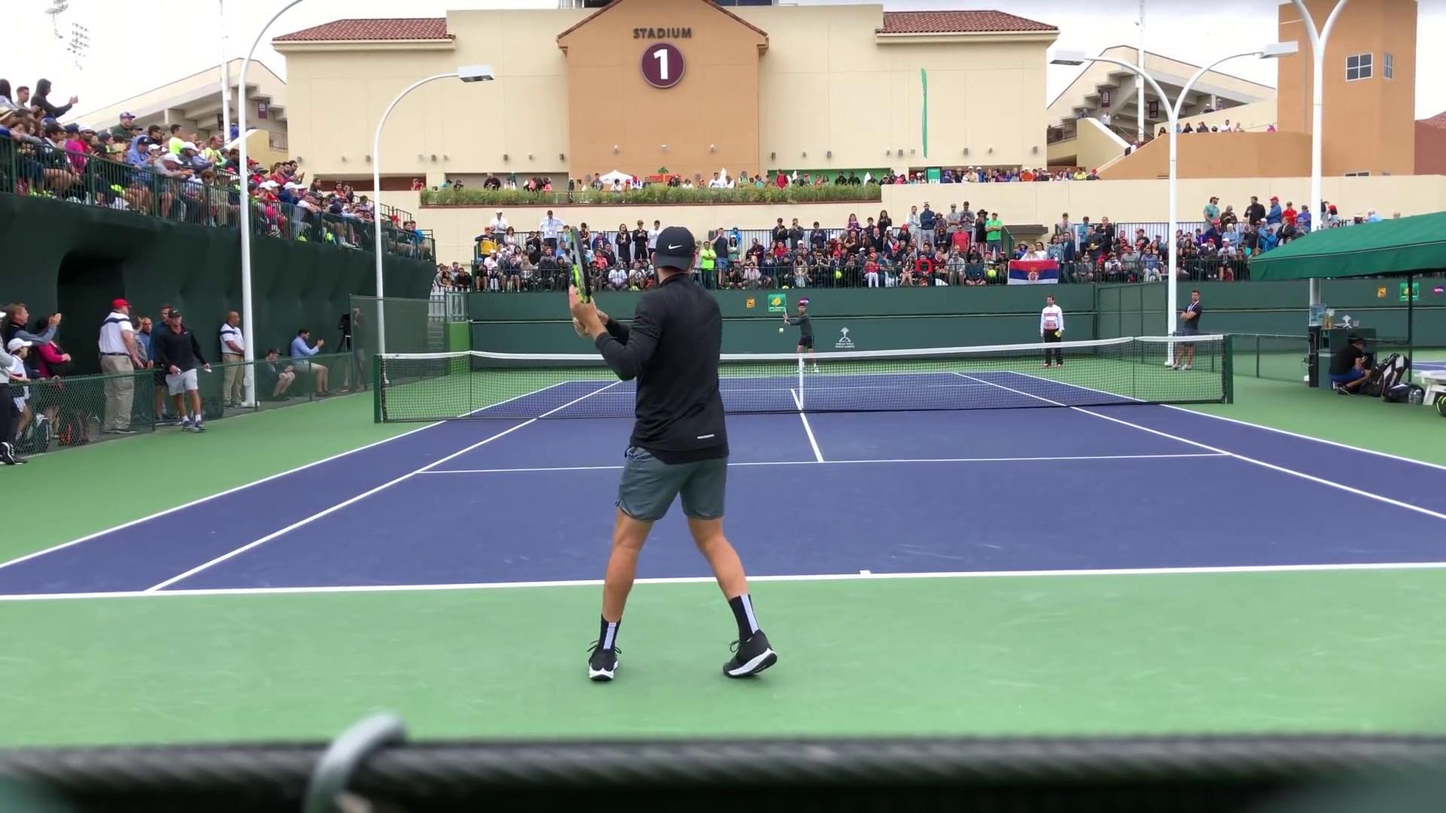ball: (778, 327, 785, 334)
